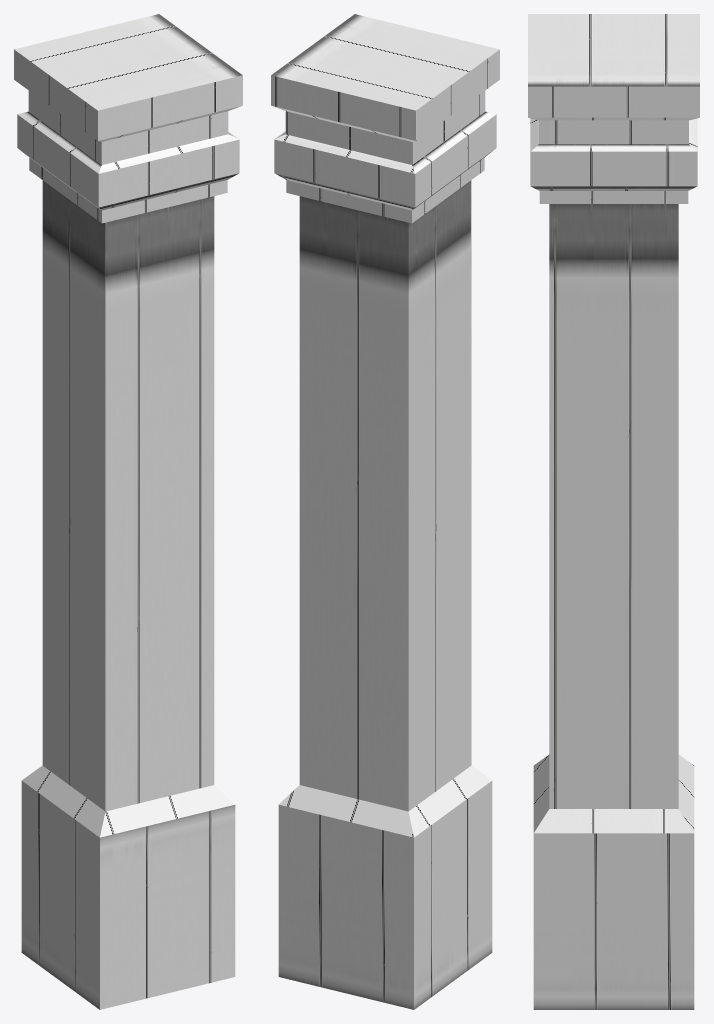
File: Column.fbx
The picture shows the model from 3 angles, left to right: view 1: azimuth 30°, elevation 25°; view 2: azimuth 150°, elevation 25°; view 3: azimuth 270°, elevation 25°; orthographic projection. The views are drawn at different scales.
Visible parts, largest first — view 1: Column; view 2: Column; view 3: Column.
Part boxes in pixels (box(x1,y1,x2,y2)): Column: box(14, 14, 242, 1009); Column: box(271, 14, 499, 1009); Column: box(528, 14, 699, 1009).
Size of the model in its own units: 58.57 by 348 by 58.57.
2 materials, 2 textured.
